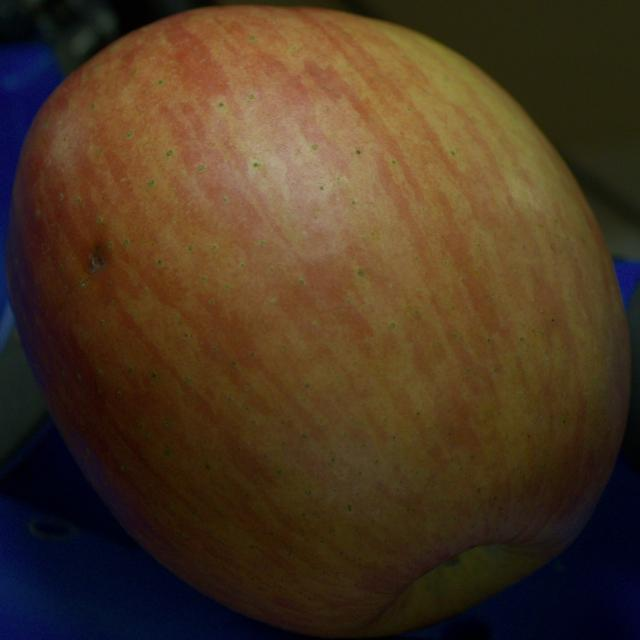apple: (7, 7, 630, 636)
scratch: (89, 251, 104, 272)
